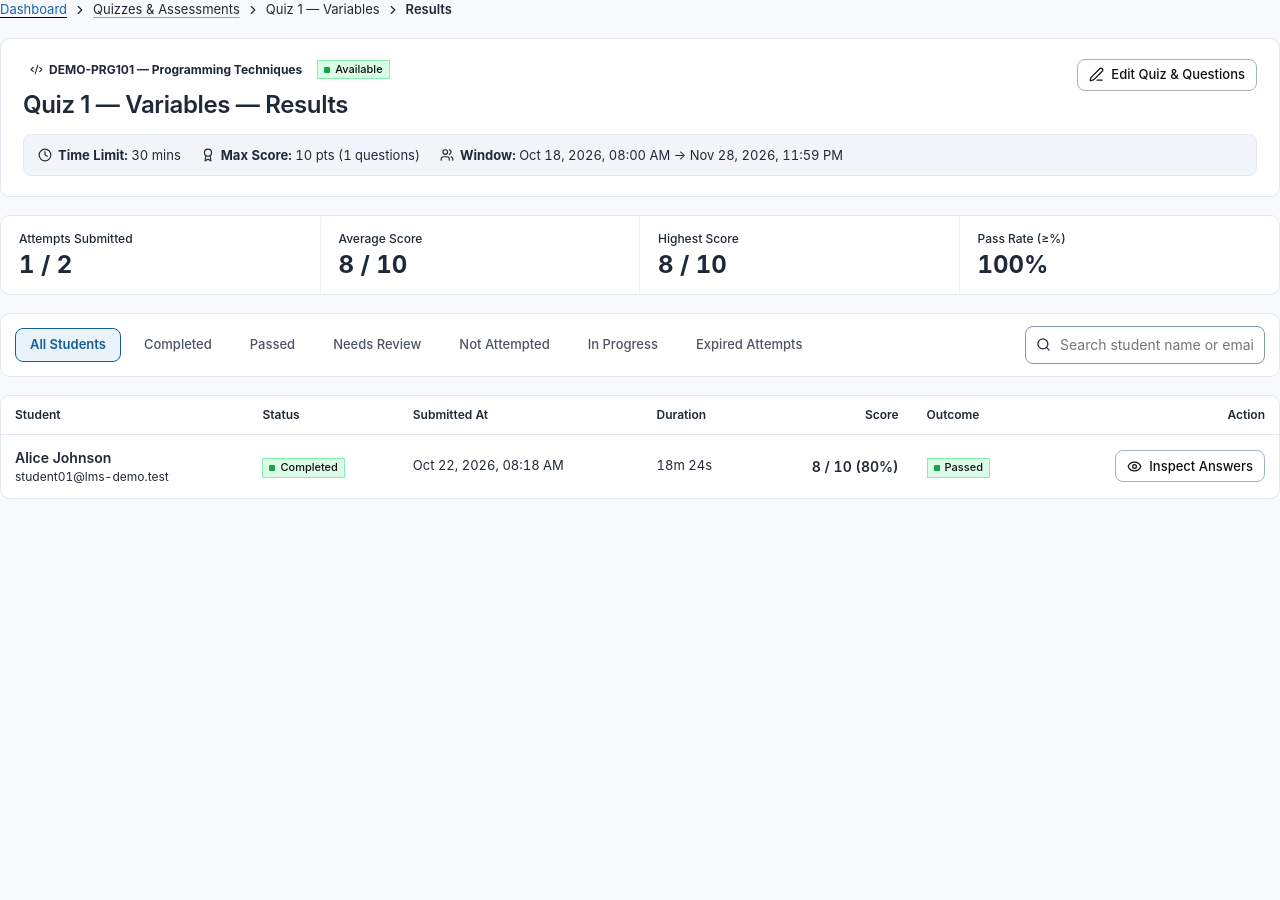
Test case: Instructor Workspace Modules (I01 - I05) › I05: InstructorQuizResultsPage renders student attempt metrics and inspects answers
Expected: the heading "Quiz 1 — Variables — Results" is shown, x1=23 y1=88 x2=390 y2=120
Expected: the text "8 / 10 (80%)" is shown, x1=756 y1=434 x2=913 y2=498
Click the button "Inspect Answers" at (1190, 466), box x1=1115 y1=450 x2=1265 y2=482
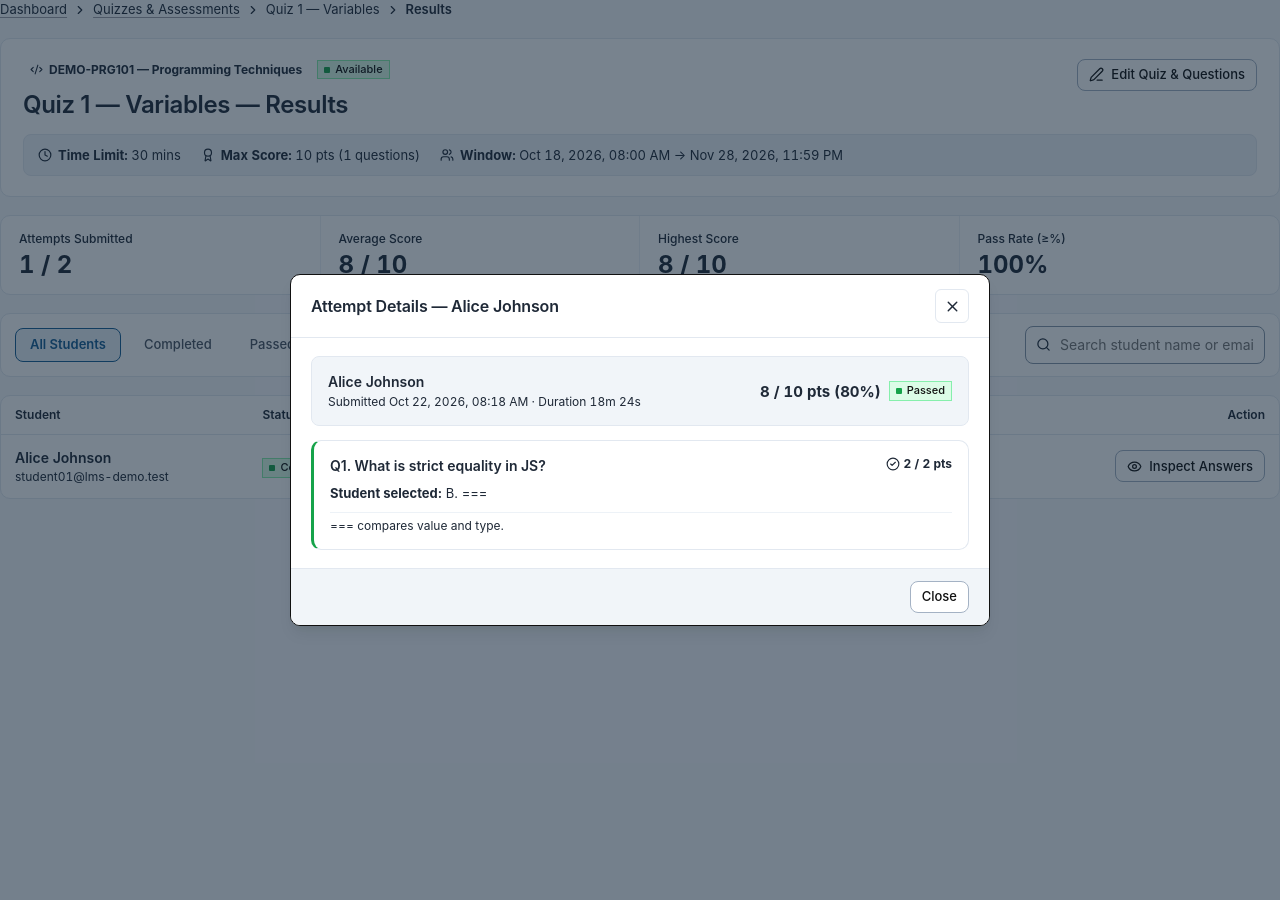
Expected: the heading "Attempt Details — Alice Johnson" is shown, x1=311 y1=296 x2=559 y2=316
Expected: the text "Q1. What is strict equality in JS?" is shown, x1=330 y1=455 x2=546 y2=476
